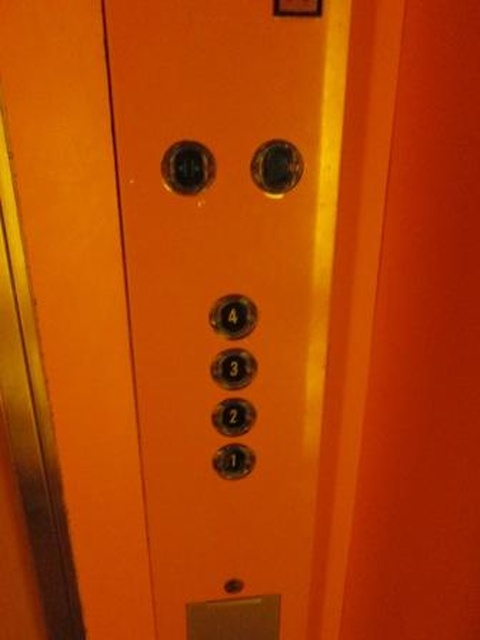1: (211, 441, 257, 482)
2: (210, 397, 259, 439)
3: (209, 346, 260, 392)
4: (209, 293, 261, 341)
blur: (252, 137, 307, 197)
open: (159, 140, 216, 199)
